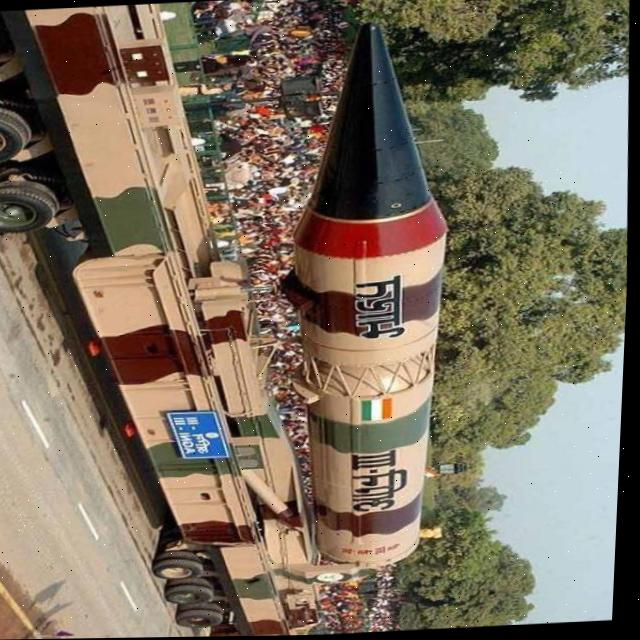missile: (275, 5, 477, 582)
